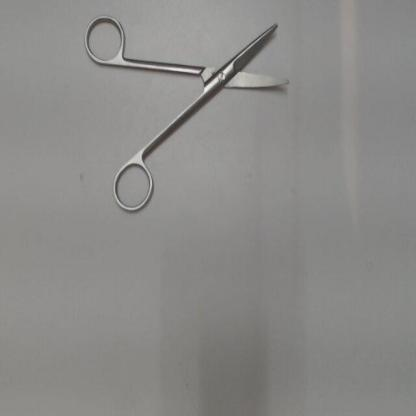Curved Mayo Scissors: (79, 9, 298, 222)
